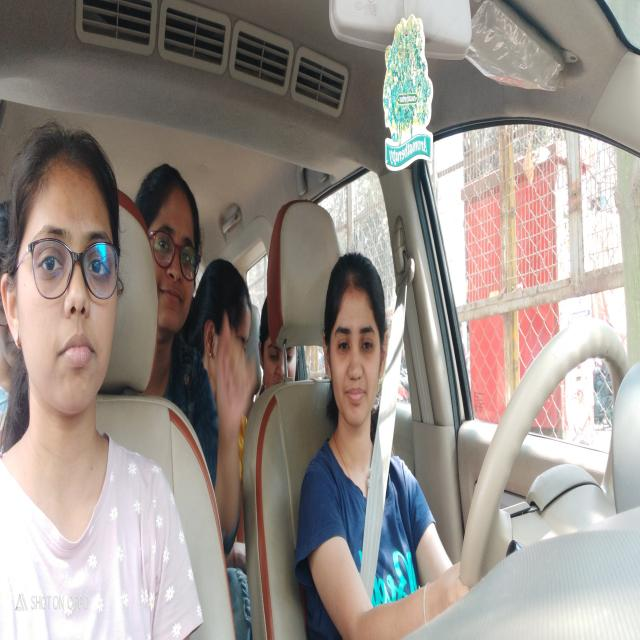person: (0, 131, 132, 433), (321, 252, 389, 434), (138, 157, 203, 340), (265, 299, 304, 388)
